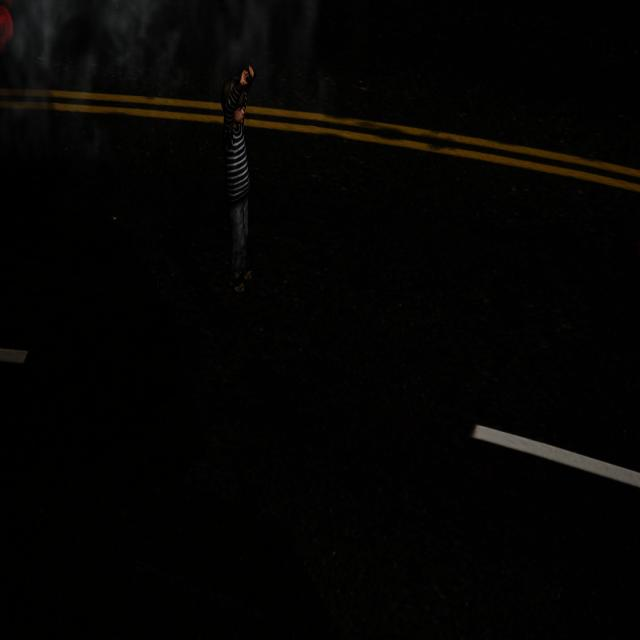Human: (217, 58, 269, 311)
